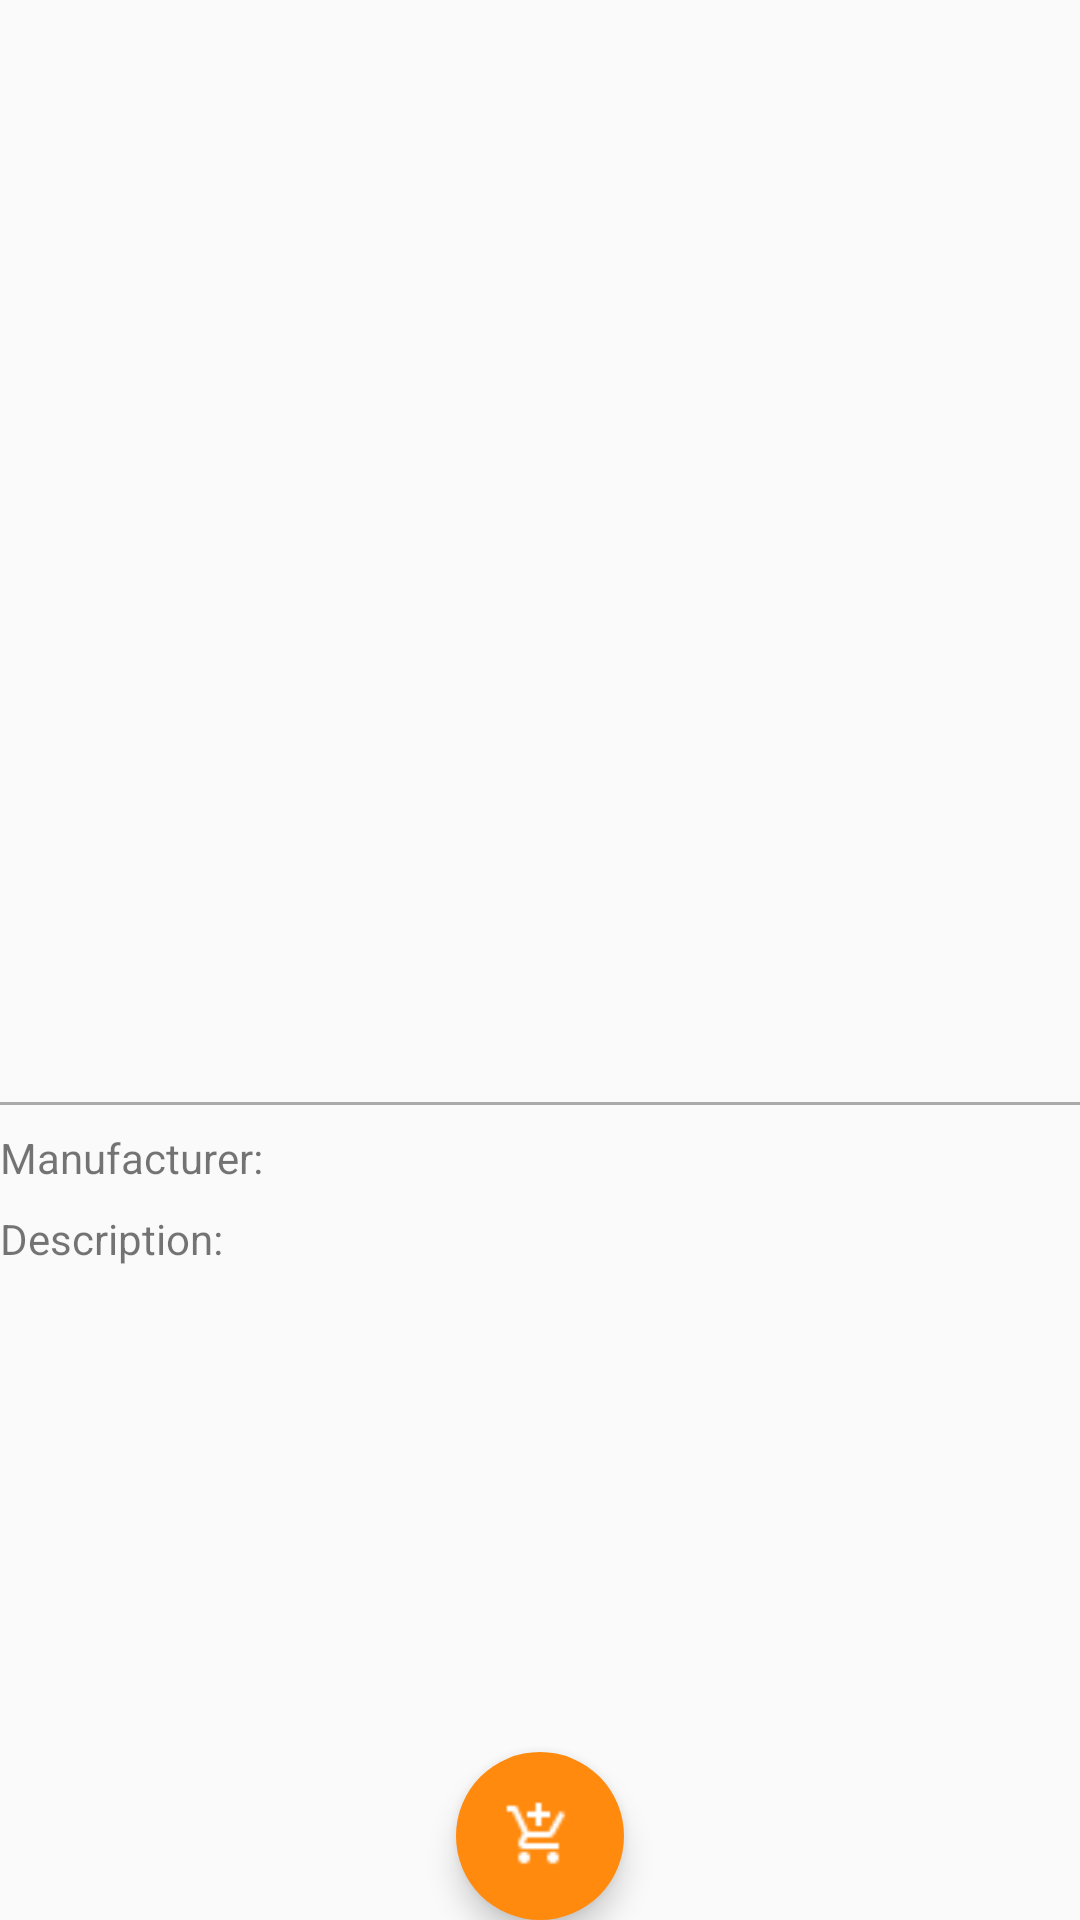

Screen size 1080px×1920px. Icon name, then its box in pixels as (x1=x1, y1=y1, x2=x2, y2=y2):
add: (x1=456, y1=1752, x2=624, y2=1920)
